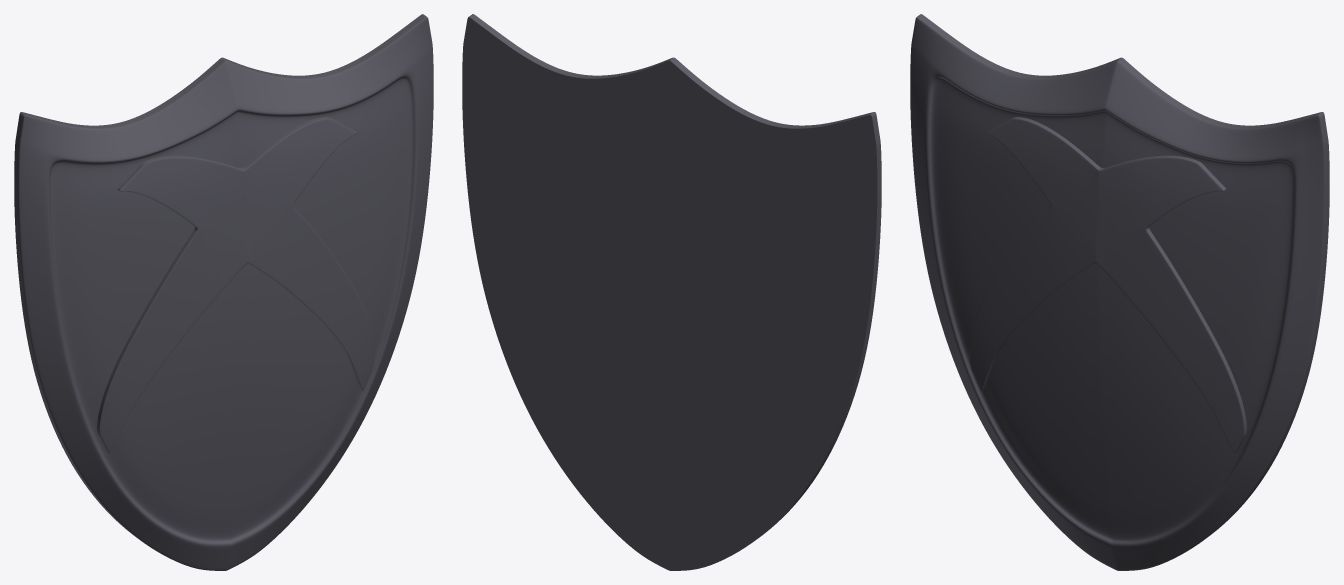
The model's file is shield.fbx.
3 views of the same model, side by side, from view 1: azimuth 30°, elevation 25°; view 2: azimuth 150°, elevation 25°; view 3: azimuth 330°, elevation 25° (orthographic).
Visible parts, largest first — view 1: node_id30; view 2: node_id30; view 3: node_id30.
Boxes of the visible parts, x1=… form: node_id30: x1=14, y1=14, x2=433, y2=570; node_id30: x1=462, y1=14, x2=881, y2=570; node_id30: x1=910, y1=14, x2=1329, y2=570.
Bounding box in the file's own units: 0.512 × 0.601 × 0.0555.
Materials: 1 (1 with a texture image).
